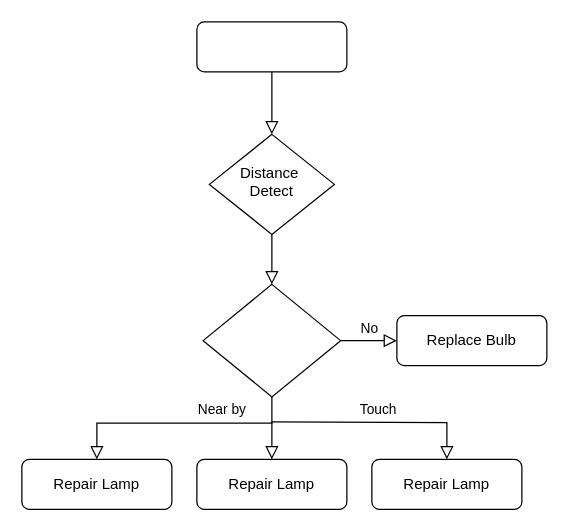
Some shapes in this 569 by 531 pixel diagram are drawn without their labels. The shapes that lost their labels are listed below. From the top down, each one's centre as x and y in pixels, then its label:
At (x=271, y=46): "Avoid Obstacle Function".
At (x=271, y=340): "정면기준 distance 00 이하".
